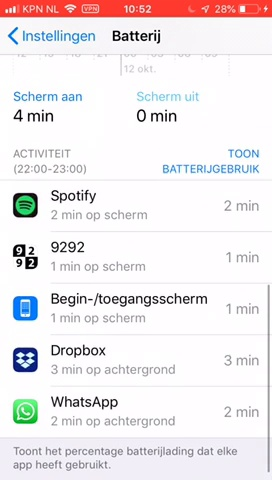activity: (6, 147, 94, 176)
app: (8, 187, 263, 228), (9, 234, 264, 275), (7, 285, 262, 326), (7, 337, 262, 378), (7, 392, 262, 433)
